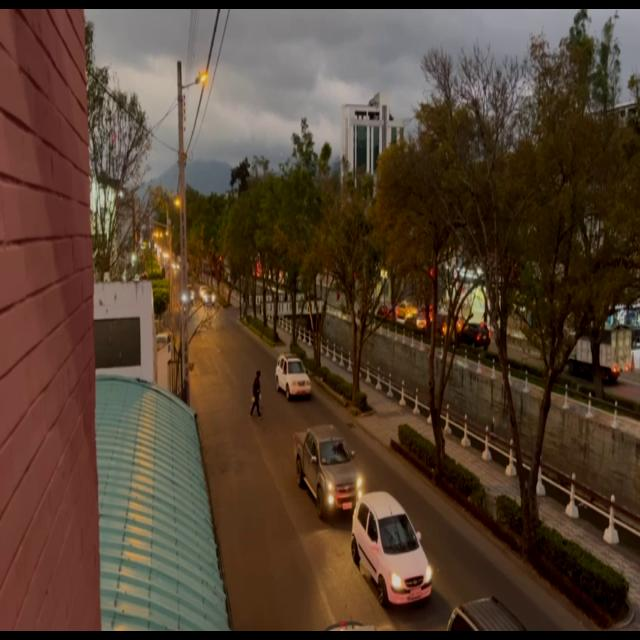CMT: (299, 430, 362, 518)
SUV: (358, 499, 432, 604), (277, 358, 309, 400)
